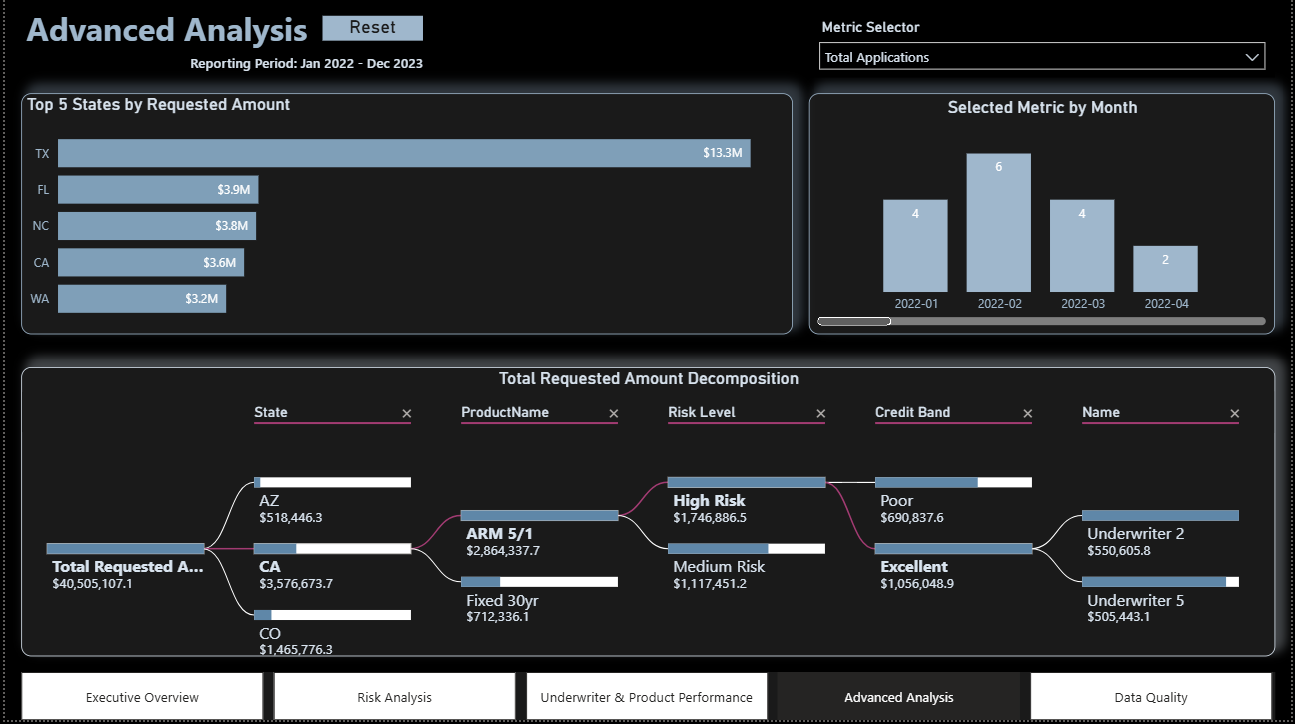

This screenshot's page, from the dashboard's own definition file:
{"tool":"powerbi","page":{"name":"Advanced Analysis","canvas":[1280,720],"ordinal":3},"visuals":[{"type":"textbox","box":[16,5,336,64],"z":0},{"type":"clusteredColumnChart","title":"Selected Metric by Month","fields":{"Y":["_Measures.Total Applications"],"Category":["DimDate.Year-Month"]},"box":[800,96,464,240],"z":1000},{"type":"clusteredBarChart","title":"Top 5 States by Requested Amount","fields":{"Category":["DimProperties.State"],"Y":["_Measures.Total Requested Amount"]},"box":[16,96,768,240],"z":2000},{"type":"cardVisual","fields":{"Data":["_Measures.Selected Period"]},"box":[160,32,352,64],"z":3000},{"type":"slicer","fields":{"Values":["Metric Selector.Metric Selector"]},"box":[800,16,464,64],"z":4000},{"type":"decompositionTreeVisual","title":"Total Requested Amount Decomposition","fields":{"Analyze":["_Measures.Total Requested Amount"],"ExplainBy":["DimProperties.State","DimProducts.ProductName","FactApplications.Risk Level","DimApplicants.Credit Band","DimUnderwriters.Name"]},"box":[16,368,1248,288],"z":5000},{"type":"pageNavigator","box":[16,672,1248,48],"z":6000},{"type":"actionButton","title":"Reset ","box":[316,19,100,25],"z":7000}]}

Visuals, with their boxes in screenshot pixels (x1, y1, x2, y2), scaled from the page's 1280x720 canvas onto the 1295x724 screenshot:
textbox: [x1=16, y1=5, x2=356, y2=69]
"Selected Metric by Month" clusteredColumnChart: [x1=809, y1=97, x2=1279, y2=338]
"Top 5 States by Requested Amount" clusteredBarChart: [x1=16, y1=97, x2=793, y2=338]
cardVisual - _Measures.Selected Period: [x1=162, y1=32, x2=518, y2=97]
slicer - Metric Selector.Metric Selector: [x1=809, y1=16, x2=1279, y2=80]
"Total Requested Amount Decomposition" decompositionTreeVisual: [x1=16, y1=370, x2=1279, y2=660]
pageNavigator: [x1=16, y1=676, x2=1279, y2=723]
"Reset " actionButton: [x1=320, y1=19, x2=421, y2=44]
